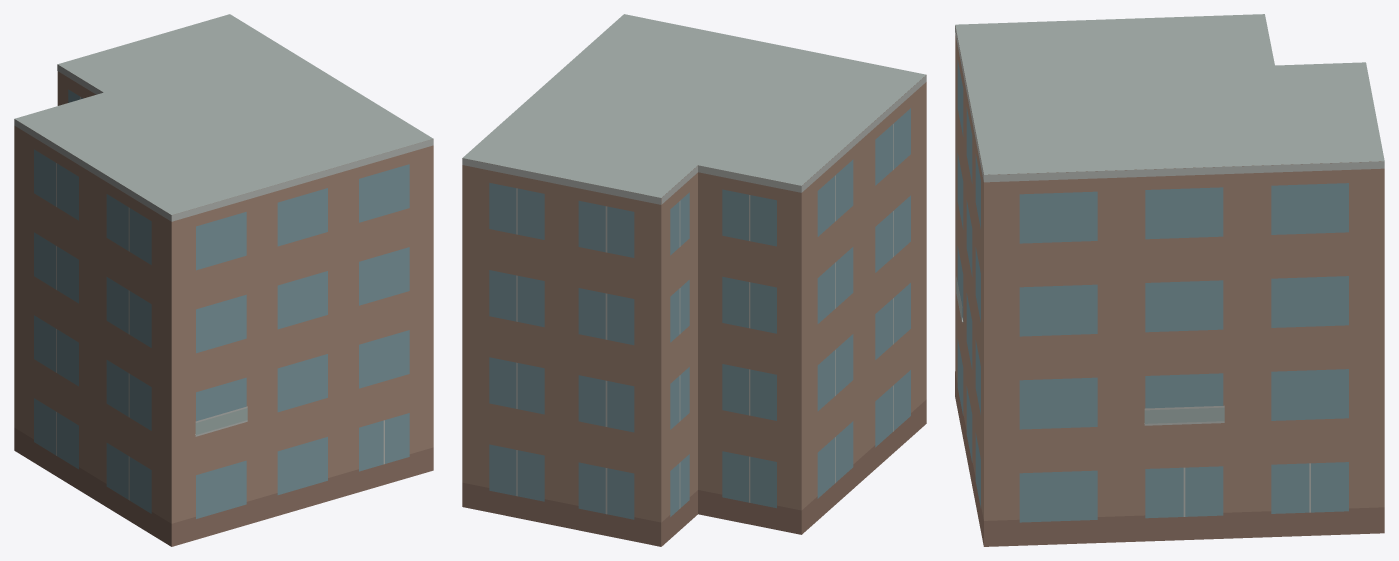
The model's file is residential-85ac7d59-a5da-41ef-8faf-f37a1e9ab4dc.glb.
3 renders of one model, left to right at view 1: azimuth 30°, elevation 25°; view 2: azimuth 150°, elevation 25°; view 3: azimuth 270°, elevation 25°, orthographic. The views are drawn at different scales.
Visible parts, largest first — view 1: residential-85ac7d59-a5da-41ef-8faf-f37a1e9ab4dc.tmp; view 2: residential-85ac7d59-a5da-41ef-8faf-f37a1e9ab4dc.tmp; view 3: residential-85ac7d59-a5da-41ef-8faf-f37a1e9ab4dc.tmp.
Boxes of the visible parts, x1,y1,x2,y2 form: residential-85ac7d59-a5da-41ef-8faf-f37a1e9ab4dc.tmp: (14, 14, 433, 546); residential-85ac7d59-a5da-41ef-8faf-f37a1e9ab4dc.tmp: (462, 14, 926, 546); residential-85ac7d59-a5da-41ef-8faf-f37a1e9ab4dc.tmp: (955, 14, 1384, 546).
Size of the model in its own units: 11.33 by 12.2 by 12.78.
